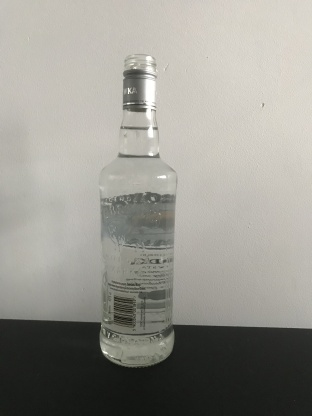nakretka: (120, 50, 159, 112)
